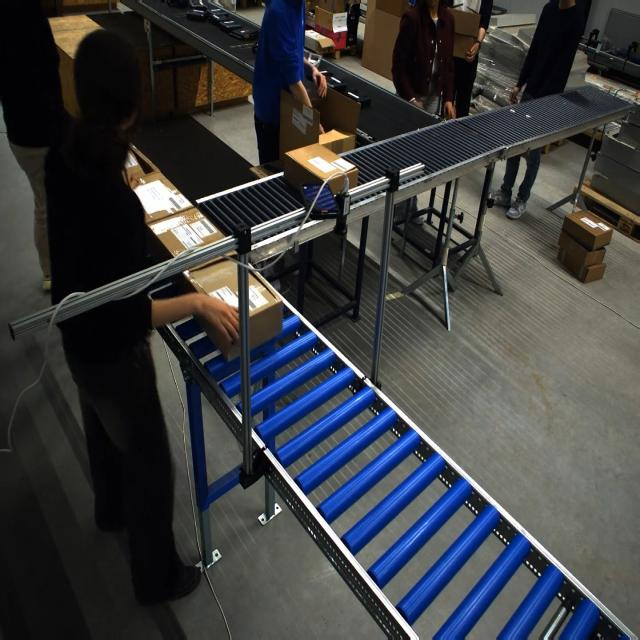box: (182, 254, 282, 358), (144, 206, 225, 263), (131, 171, 207, 231), (286, 142, 350, 197), (316, 129, 353, 156)
product: (340, 87, 369, 107), (228, 26, 259, 40), (207, 11, 231, 23), (201, 0, 223, 13), (186, 9, 209, 21), (217, 20, 242, 31), (189, 0, 206, 10)
